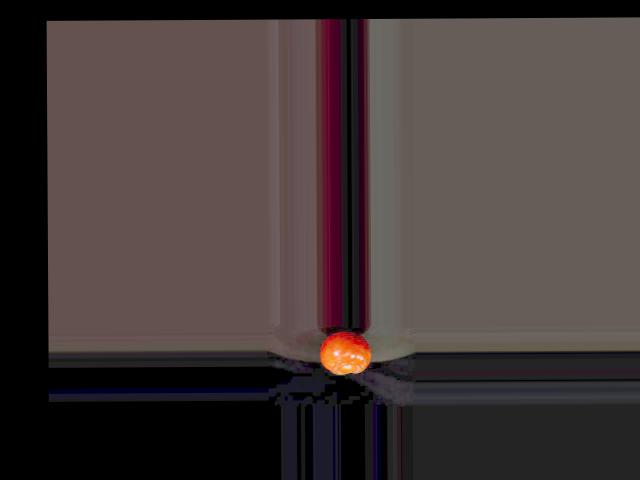tomato: (318, 331, 370, 374)
